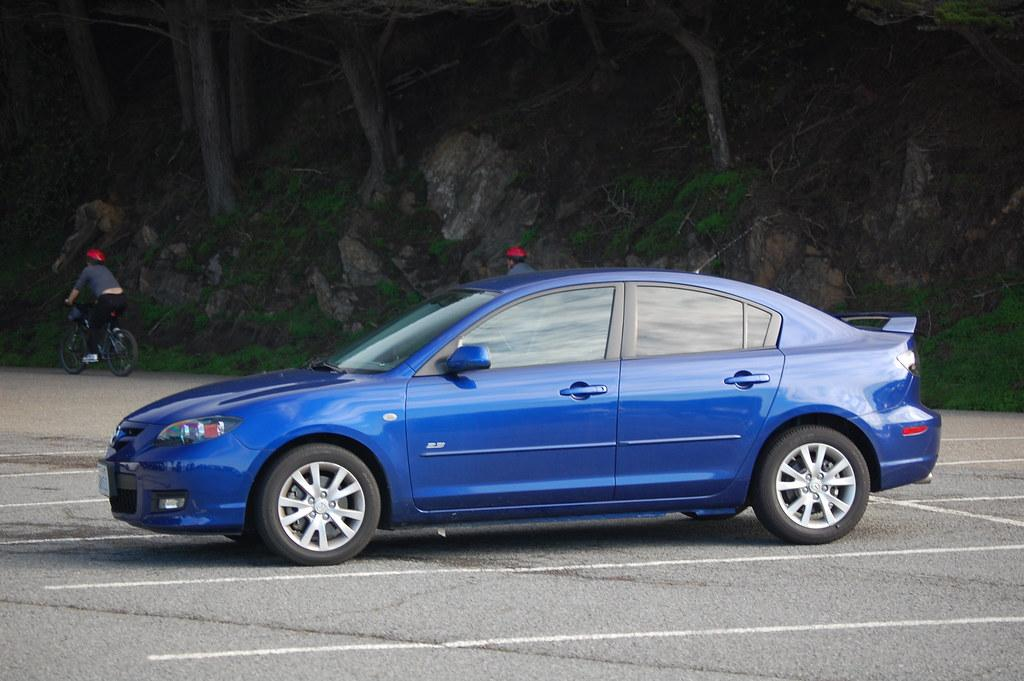car: (96, 267, 942, 566)
